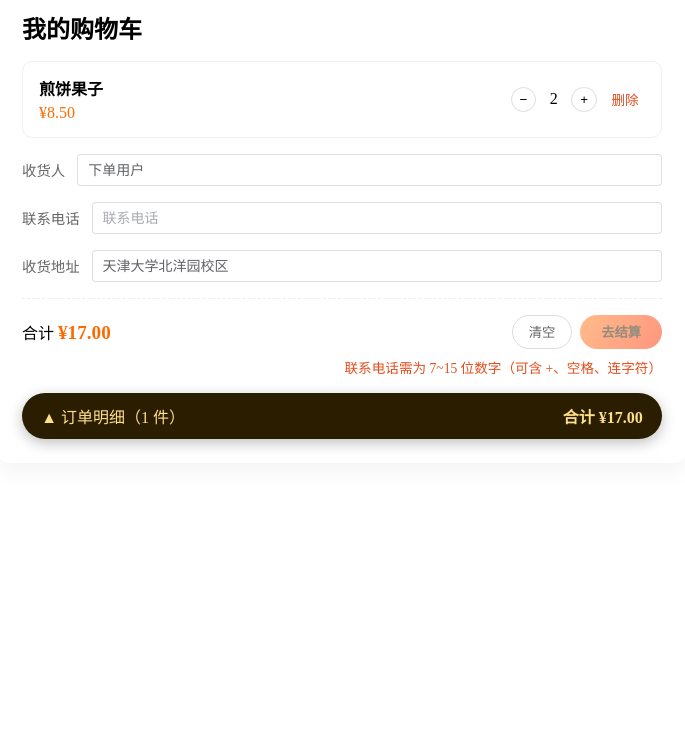
Scenario: 购物车页 › 结算按钮不可用时给出具体原因
Click the element with class "cart-drawer-bar": click(342, 416) [22,393,662,439]
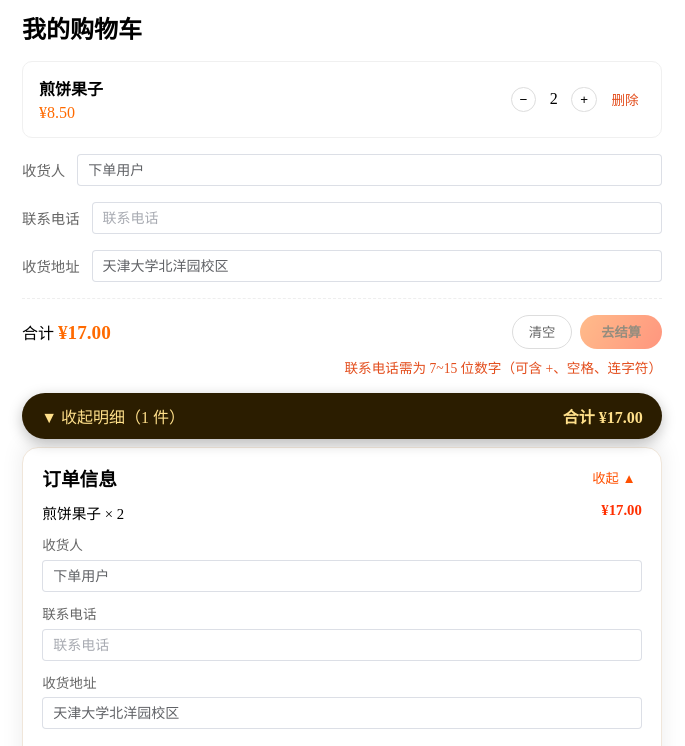
Expected: the button with test id "cart-checkout" is disabled, [580,315,662,349]
Expected: the text with test id "cart-checkout-hint" shows "联系电话", [344,361,662,376]
In the field with test id "cart-contact": (342, 645) [53,630,631,660], type "13800138000"
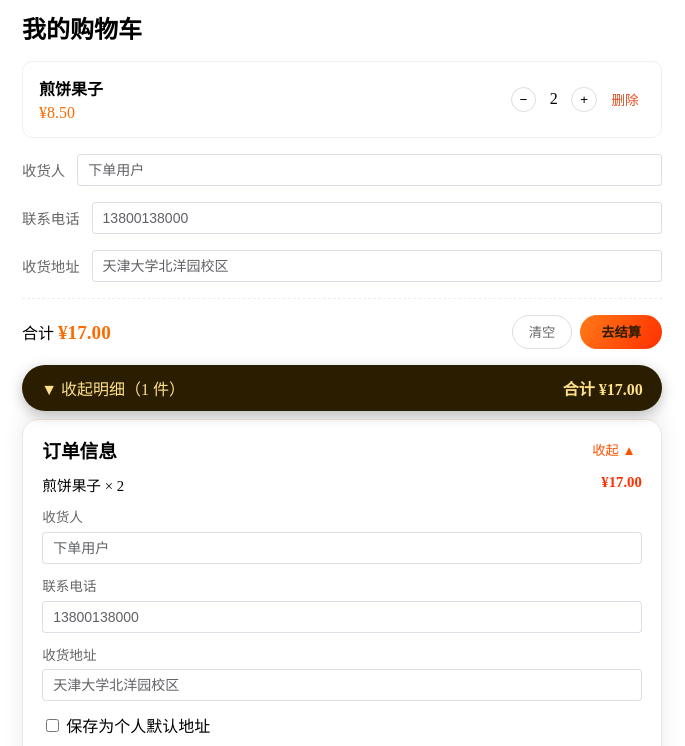
Expected: the button with test id "cart-checkout" is enabled, [580,315,662,349]
